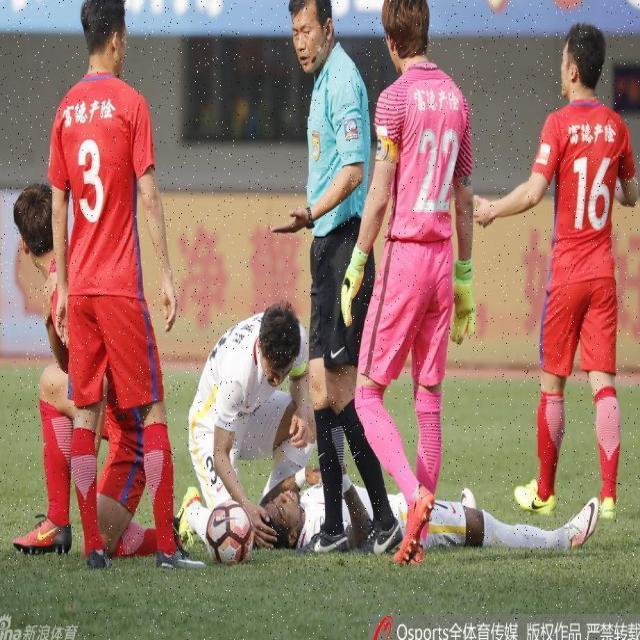fall: (261, 483, 602, 550)
